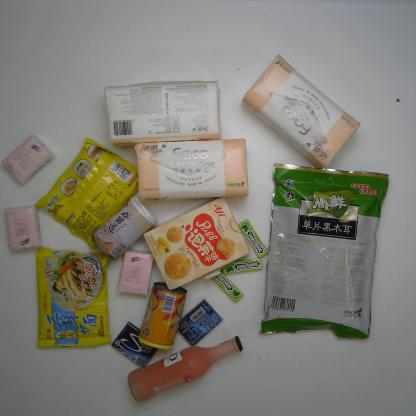Alcohol: (128, 335, 244, 405)
Canned Food: (91, 194, 159, 260), (137, 281, 188, 353)
Dessert: (142, 195, 252, 294)
Dried Food: (258, 162, 390, 340)
Gum: (109, 320, 160, 368), (176, 298, 223, 348), (206, 266, 246, 303), (236, 216, 270, 259), (219, 258, 266, 275)
Instant Noodles: (36, 136, 144, 249), (34, 246, 112, 350)
Tissue: (241, 54, 361, 170), (103, 79, 221, 149), (134, 136, 251, 202), (2, 133, 53, 184), (115, 249, 155, 298), (4, 205, 42, 253)
